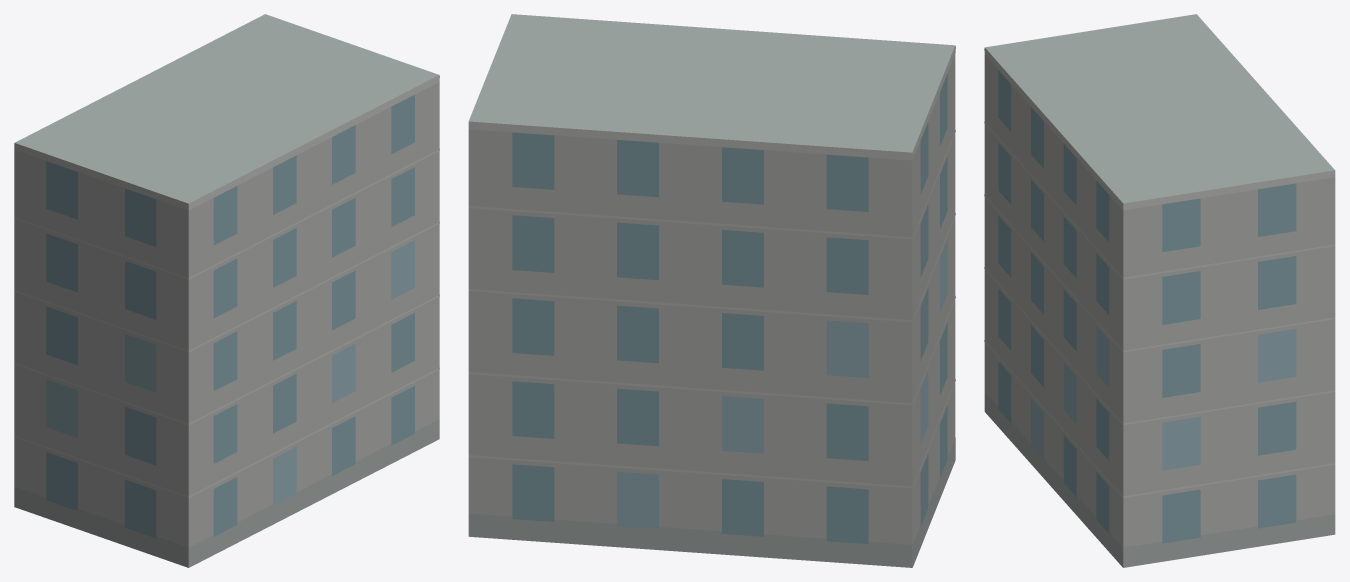
The model's file is survey-upis-33000477.glb.
3 views of the same model, side by side, from view 1: azimuth 30°, elevation 25°; view 2: azimuth 150°, elevation 25°; view 3: azimuth 270°, elevation 25° (orthographic). The views are drawn at different scales.
Parts seen in each view (by area): view 1: survey-upis-33000477.tmp; view 2: survey-upis-33000477.tmp; view 3: survey-upis-33000477.tmp.
Boxes of the visible parts, x1,y1,x2,y2 form: survey-upis-33000477.tmp: (14,14,439,567); survey-upis-33000477.tmp: (468,14,955,567); survey-upis-33000477.tmp: (984,14,1335,567).
Size of the model in its own units: 14.31 by 12.8 by 11.19.
